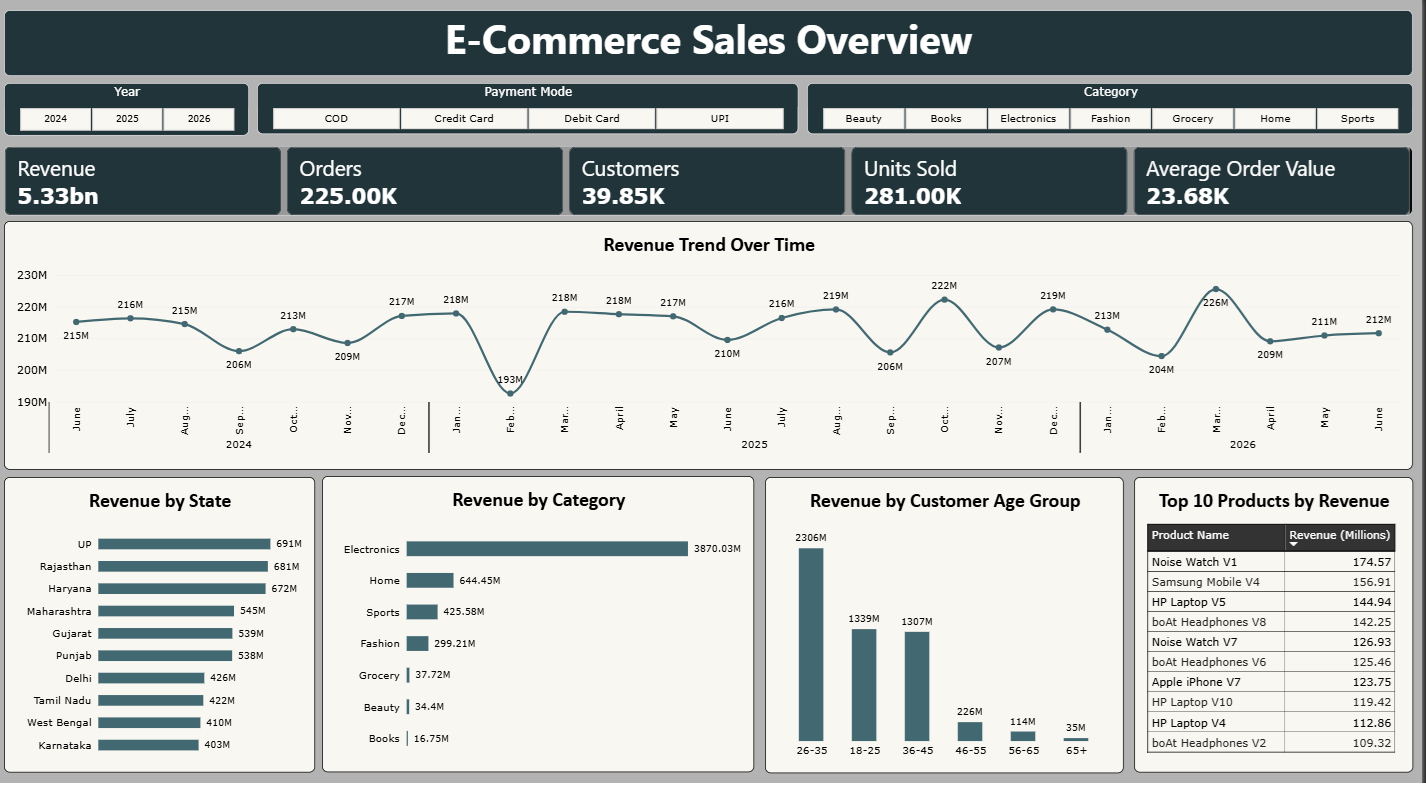

The dashboard page shown, as its layout file describes it:
{"tool":"powerbi","page":{"name":"Executive Sales Overview","canvas":[1920,1080],"ordinal":0},"visuals":[{"type":"textbox","box":[10.8,20.2,1897.4,88.9],"z":0},{"type":"cardVisual","fields":{"Data":["Measure.Total Revenue","Measure.Total Orders","Measure.Total Customers","Measure.Units Sold","Measure.Average Order Value"]},"box":[10.8,203.3,1897.4,94.3],"z":1000},{"type":"lineChart","title":"Revenue Trend Over Time ","fields":{"Category":["sales.Order_Date.Variation.Date Hierarchy.Year","sales.Order_Date.Variation.Date Hierarchy.Month"],"Y":["Measure.Total Revenue"]},"box":[10.8,304.3,1897.4,335.3],"z":2000},{"type":"clusteredBarChart","title":"Revenue by State","fields":{"Category":["sales.State"],"Y":["Measure.Total Revenue"]},"box":[10.4,649.4,418.6,397.9],"z":3000},{"type":"clusteredColumnChart","title":"Revenue by Customer Age Group","fields":{"Category":["sales.Customer_Age_Group"],"Y":["Measure.Total Revenue"]},"box":[1035.6,649.1,483.4,398.6],"z":4000},{"type":"tableEx","title":"Top 10 Products by Revenue","fields":{"Values":["products.Product_Name","Measure.Total Revenue in Millions"]},"box":[1532.4,649.4,375.7,397.9],"z":5000},{"type":"clusteredBarChart","title":"Revenue by Category","fields":{"Category":["products.Category"],"Y":["Measure.Total Revenue"]},"box":[439,647.7,581.7,398.6],"z":7000},{"type":"slicer","title":"Year","fields":{"Values":["sales.Order_Date.Variation.Date Hierarchy.Year"]},"box":[10.8,118.5,329.9,71.4],"z":8000},{"type":"slicer","title":"Payment Mode","fields":{"Values":["sales.Payment_Mode"]},"box":[351.5,118.5,728.5,68.7],"z":9000},{"type":"slicer","title":"Category","fields":{"Values":["products.Category"]},"box":[1092.1,118.5,816.1,68.7],"z":10000}]}

Visuals, with their boxes in screenshot pixels (x1, y1, x2, y2), scaled from the page's 1920x1080 canvas onto the 1426x796 screenshot:
textbox: detection(8, 15, 1417, 80)
cardVisual - Measure.Total Revenue x Measure.Total Orders: detection(8, 150, 1417, 219)
"Revenue Trend Over Time " lineChart: detection(8, 224, 1417, 471)
"Revenue by State" clusteredBarChart: detection(8, 479, 319, 772)
"Revenue by Customer Age Group" clusteredColumnChart: detection(769, 478, 1128, 772)
"Top 10 Products by Revenue" tableEx: detection(1138, 479, 1417, 772)
"Revenue by Category" clusteredBarChart: detection(326, 477, 758, 771)
"Year" slicer: detection(8, 87, 253, 140)
"Payment Mode" slicer: detection(261, 87, 802, 138)
"Category" slicer: detection(811, 87, 1417, 138)
